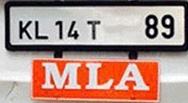character: (40, 61, 81, 90), (114, 62, 149, 92), (84, 62, 113, 90), (143, 13, 159, 39), (160, 12, 175, 39), (17, 19, 33, 40), (86, 19, 102, 40), (35, 20, 50, 40), (67, 20, 80, 40), (54, 20, 64, 40)
